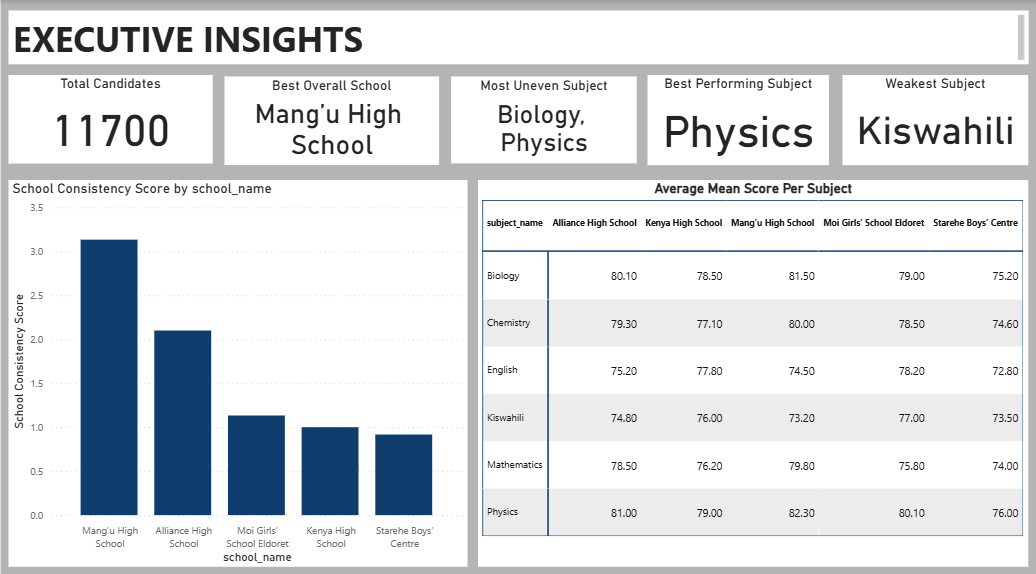

The page's visual inventory and layout, read from the dashboard file:
{"tool":"powerbi","page":{"name":"Executive Decision Support ","canvas":[1280,720],"ordinal":3},"visuals":[{"type":"card","title":"Best Overall School","fields":{"Values":["School.Best Overall School"]},"box":[274.3,93.9,263.2,108.6],"z":0},{"type":"card","title":"Weakest Subject","fields":{"Values":["School.Weakest Subject"]},"box":[1032.7,92,228.3,110.5],"z":1000},{"type":"card","title":"Most Uneven Subject","fields":{"Values":["School.Most Uneven Subject"]},"box":[552.3,93.9,228.3,106.8],"z":2000},{"type":"pivotTable","title":"Average Mean Score Per Subject","fields":{"Rows":["Subjects.subject_name"],"Columns":["School.school_name"],"Values":["School.Subject Average Mean Score"]},"box":[585.4,220.9,675.6,474.9],"z":3000},{"type":"clusteredColumnChart","fields":{"Category":["School.school_name"],"Y":["School.School Consistency Score"]},"box":[9.2,220.9,563.3,474.9],"z":4000},{"type":"card","title":"Total Candidates","fields":{"Values":["Sum(results.total_candidates)"]},"box":[9.2,92,250.4,108.6],"z":5000},{"type":"textbox","box":[9.2,12.9,1251.8,66.3],"z":6000},{"type":"card","title":"Best Performing Subject","fields":{"Values":["School.Best Performing Subject"]},"box":[793.4,92,222.7,110.5],"z":7000}]}

Visuals, with their boxes in screenshot pixels (x1, y1, x2, y2), scaled from the page's 1280x720 canvas onto the 1036x574 screenshot:
"Best Overall School" card: <region>222, 75, 435, 161</region>
"Weakest Subject" card: <region>836, 73, 1021, 161</region>
"Most Uneven Subject" card: <region>447, 75, 632, 160</region>
"Average Mean Score Per Subject" pivotTable: <region>474, 176, 1021, 555</region>
clusteredColumnChart - School.school_name x School.School Consistency Score: <region>7, 176, 463, 555</region>
"Total Candidates" card: <region>7, 73, 210, 160</region>
textbox: <region>7, 10, 1021, 63</region>
"Best Performing Subject" card: <region>642, 73, 822, 161</region>
